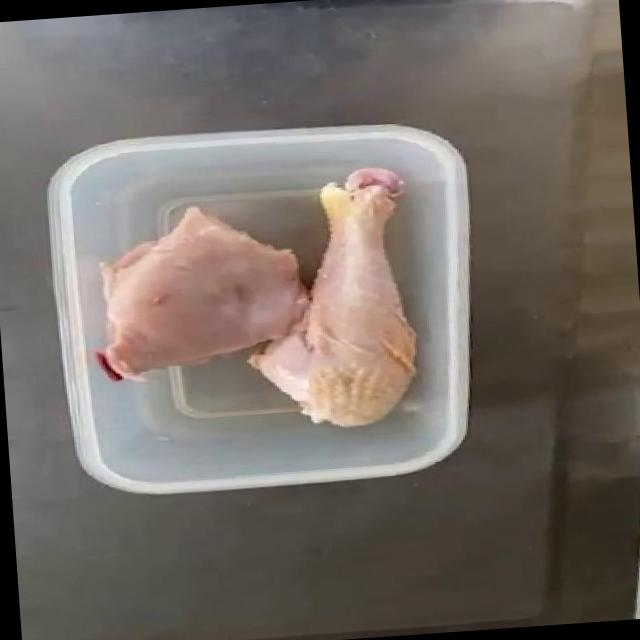chicken: (84, 171, 423, 447)
